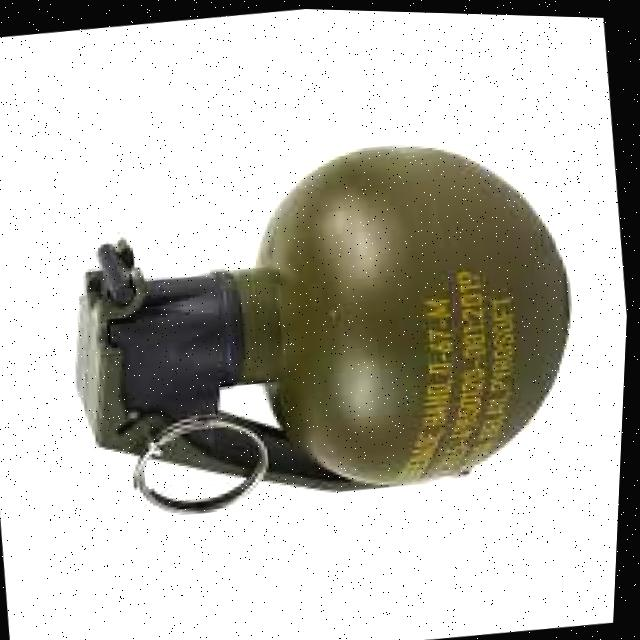grenade: (38, 109, 605, 540)
